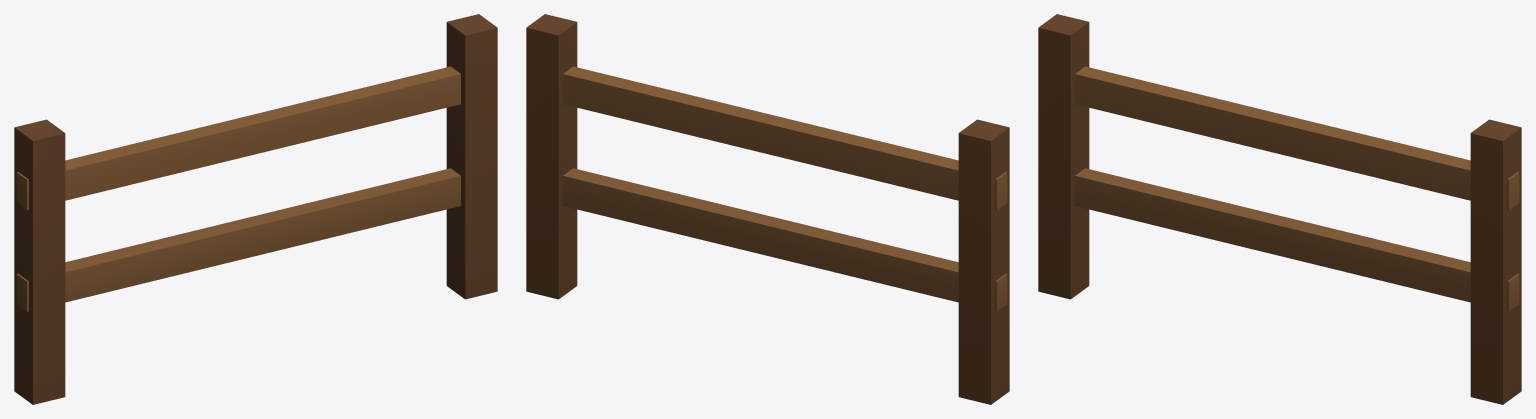
Rendered from gard.glb.
3 views of the same model, side by side, from view 1: azimuth 30°, elevation 25°; view 2: azimuth 150°, elevation 25°; view 3: azimuth 330°, elevation 25° (orthographic).
Parts seen in each view (by area): view 1: Corp; view 2: Corp; view 3: Corp.
Part boxes in pixels (<box>): Corp: <box>14,14,497,404</box>; Corp: <box>526,14,1009,404</box>; Corp: <box>1038,14,1521,404</box>.
Bounding box in the file's own units: 1.3 × 0.7 × 0.09.
